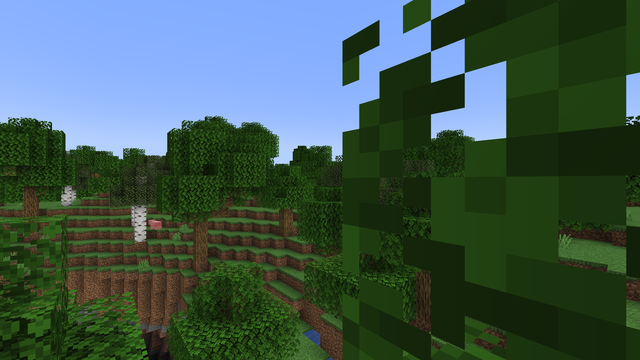cochons: (150, 220, 160, 229)
